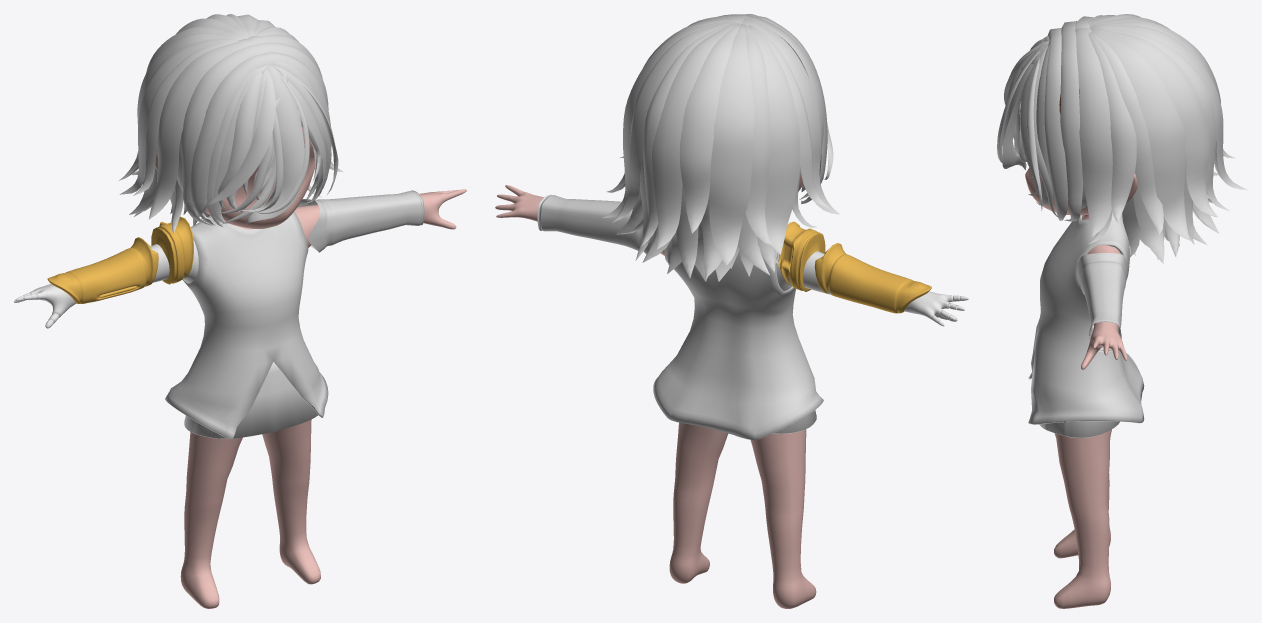
File: Female_2_export.fbx
The picture shows the model from 3 angles, left to right: view 1: azimuth 30°, elevation 25°; view 2: azimuth 150°, elevation 25°; view 3: azimuth 270°, elevation 25°; orthographic projection. The views are drawn at different scales.
Parts seen in each view (by area): view 1: s.body.004; view 2: s.body.004; view 3: s.body.004.
Boxes of the visible parts, left/top/right/bottom form: s.body.004: left=14, top=14, right=466, bottom=608; s.body.004: left=495, top=14, right=968, bottom=608; s.body.004: left=997, top=14, right=1247, bottom=608.
Bounding box in the file's own units: 45.7 × 53.65 × 21.91.
